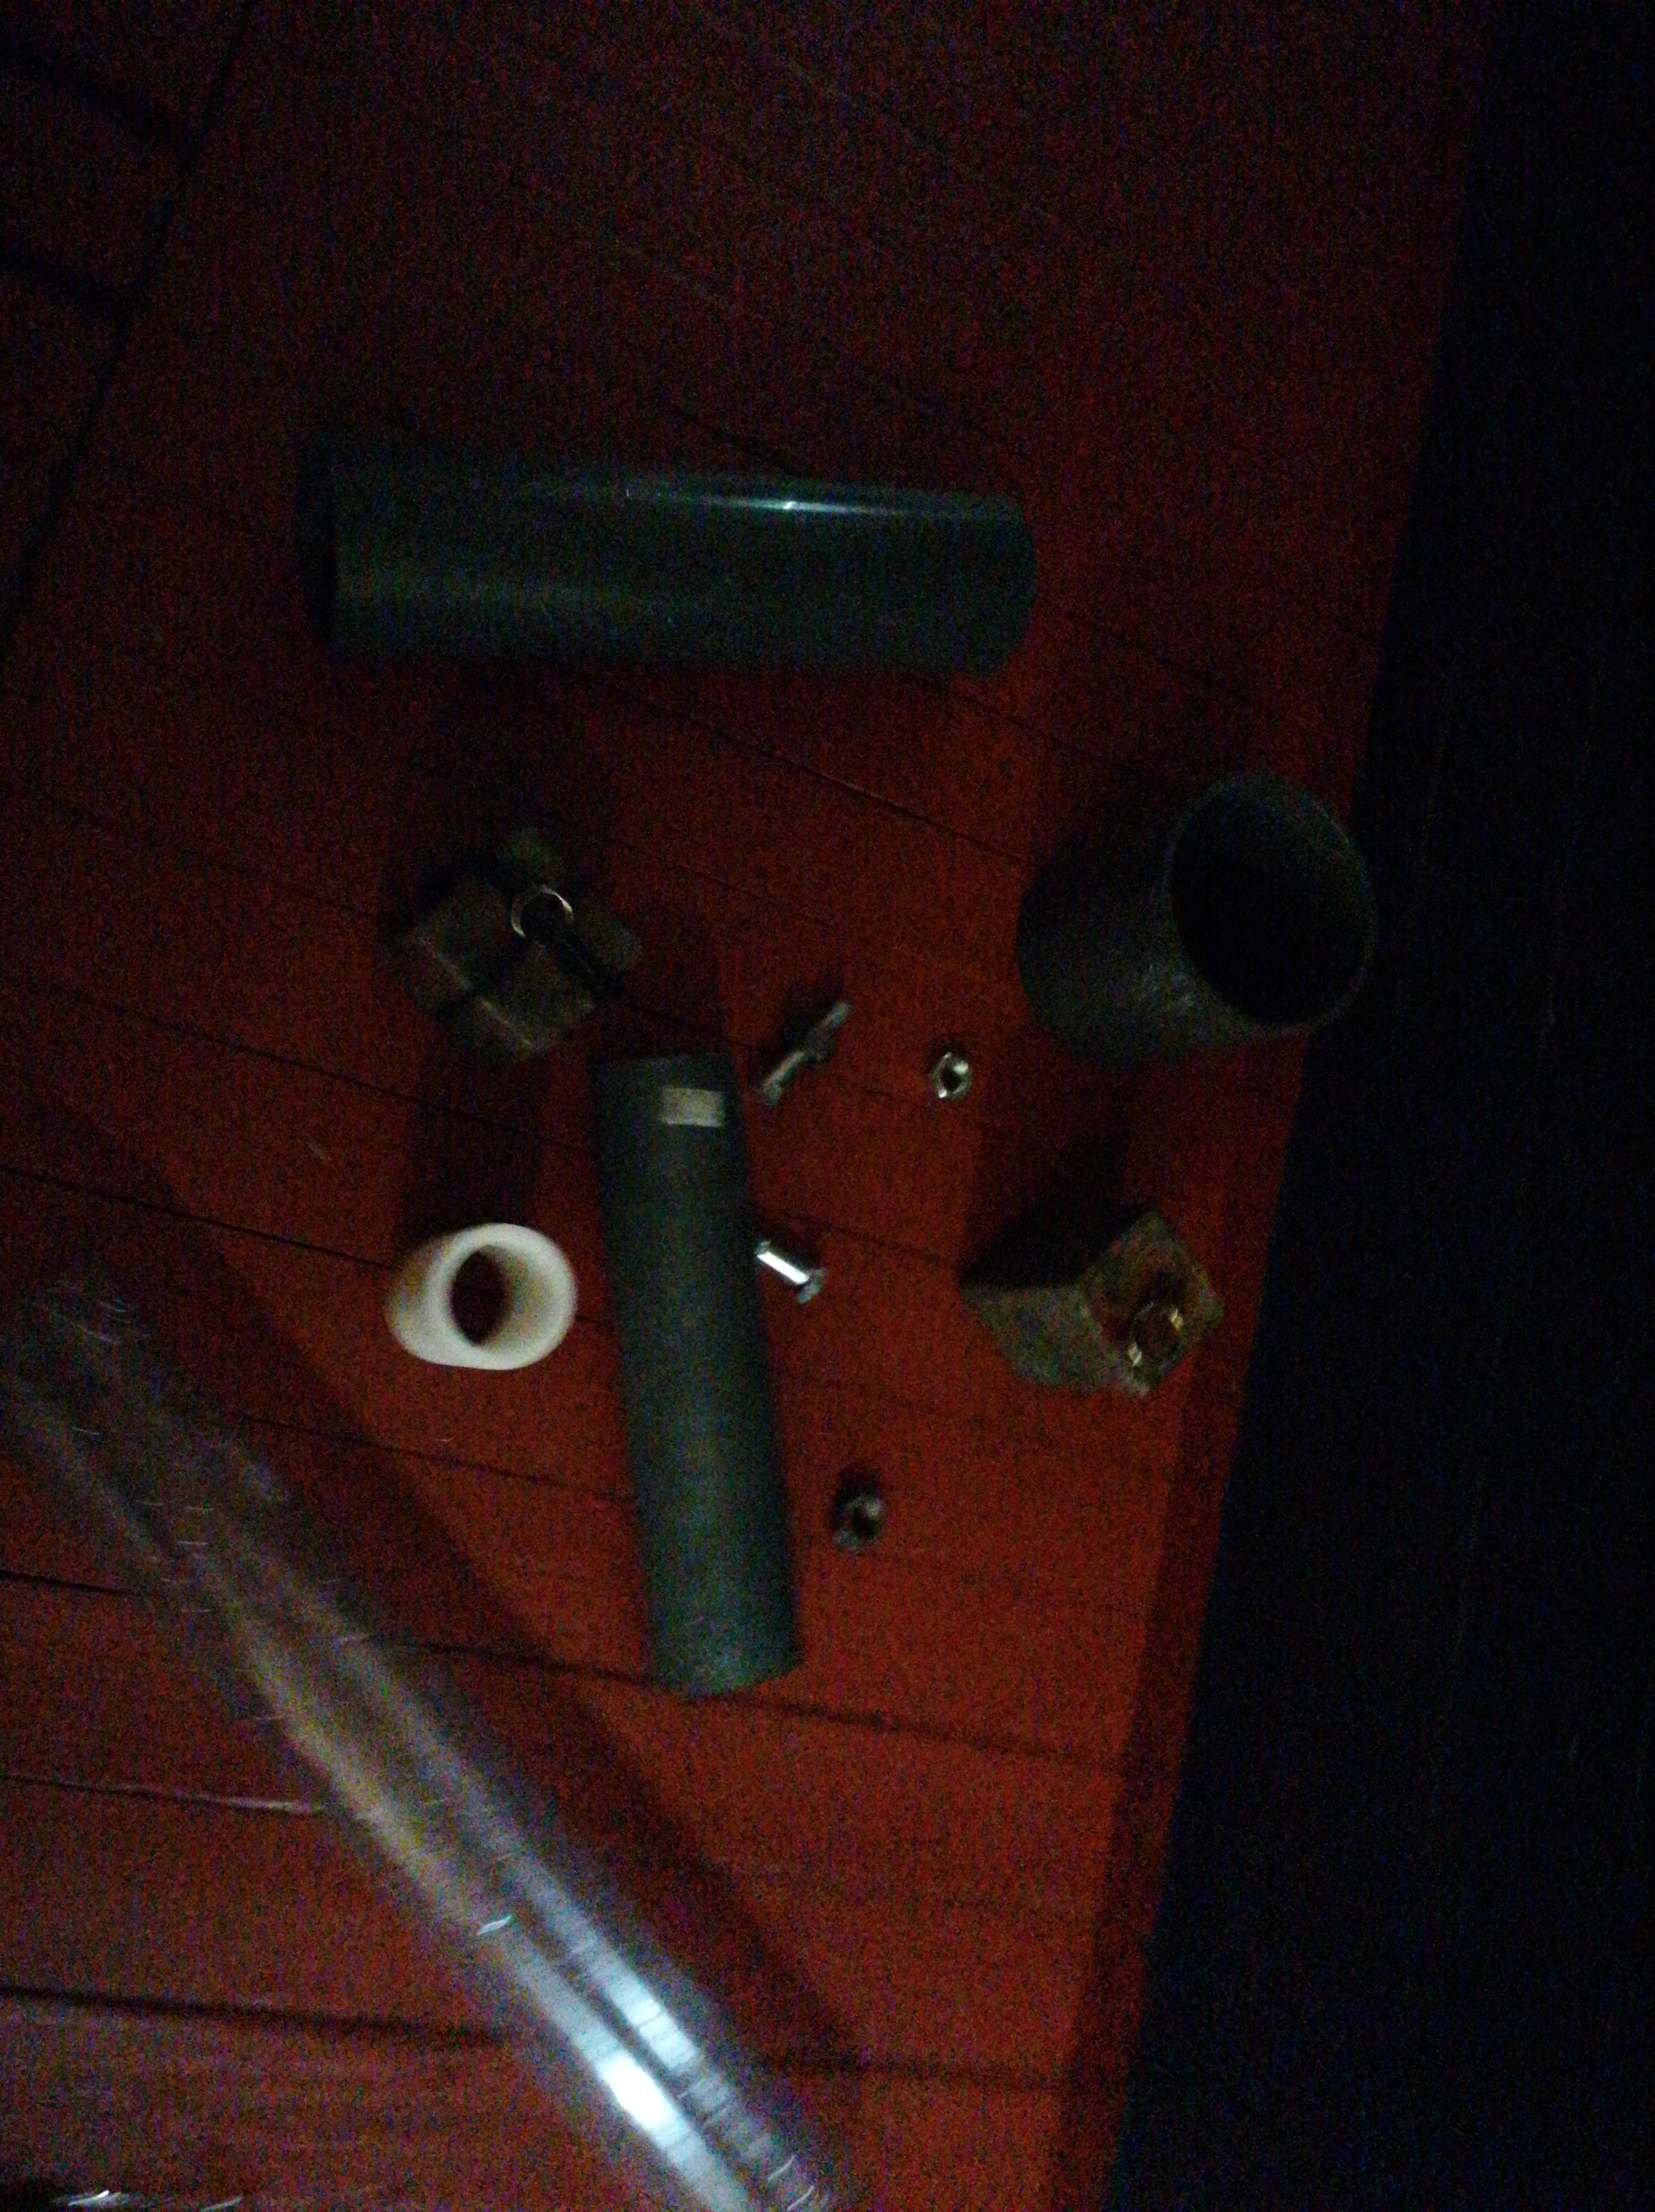bolt: (753, 997, 855, 1105), (753, 1237, 826, 1305)
led_block: (379, 825, 640, 1069), (956, 1187, 1226, 1397)
nut: (833, 1489, 892, 1550), (927, 1048, 975, 1105), (784, 1018, 834, 1070)
pipe: (7, 1255, 831, 2212), (296, 426, 1036, 679), (591, 1055, 808, 1694), (1014, 770, 1384, 1060), (381, 1222, 582, 1376)
